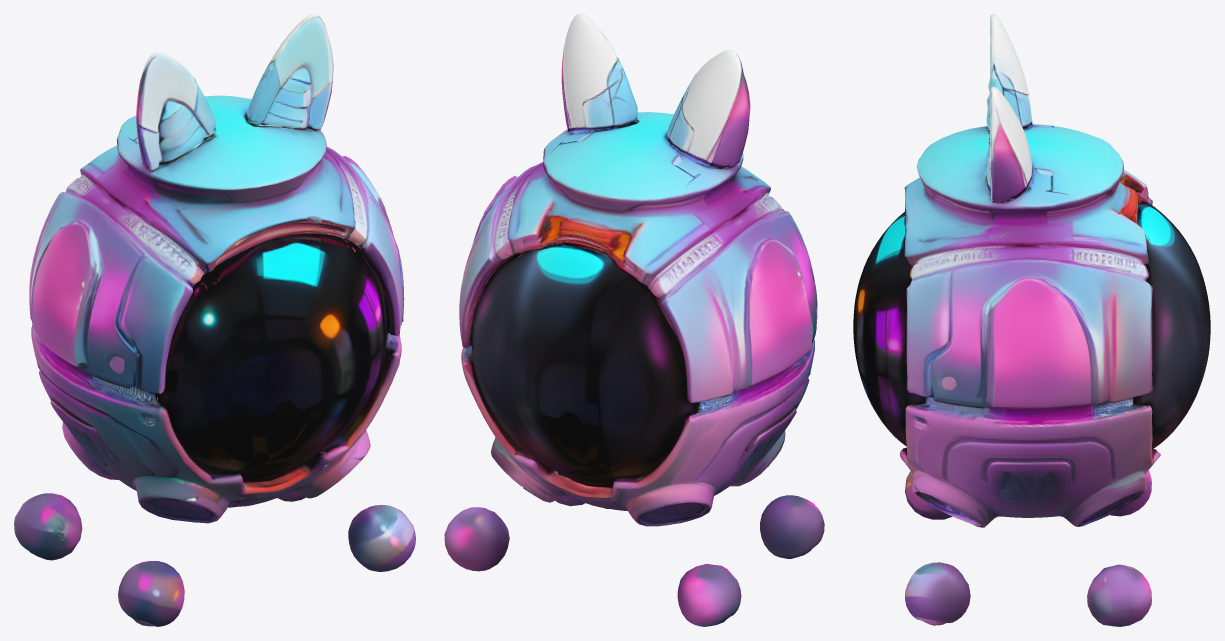
Rendered from 06BrightModel.glb.
3 renders of one model, left to right at view 1: azimuth 30°, elevation 25°; view 2: azimuth 150°, elevation 25°; view 3: azimuth 270°, elevation 25°, orthographic. The views are drawn at different scales.
Parts seen in each view (by area): view 1: root.0, root.2, root.3, root.4, root.9, root.5, root.12; view 2: root.0, root.1, root.4, root.3, root.11, root.12, root.5; view 3: root.0, root.1, root.2, root.3, root.9, root.11, root.4, root.12.
Boxes of the visible parts, box(x1,y1,x2,y2) form: root.0: box(29, 95, 404, 523); root.2: box(156, 234, 386, 479); root.3: box(245, 14, 333, 130); root.4: box(136, 52, 215, 170); root.9: box(348, 505, 415, 571); root.5: box(14, 493, 82, 560); root.12: box(118, 561, 184, 626); root.0: box(459, 112, 817, 526); root.1: box(471, 243, 697, 485); root.4: box(665, 50, 750, 169); root.3: box(561, 14, 637, 133); root.11: box(444, 507, 509, 571); root.12: box(760, 495, 824, 558); root.5: box(677, 564, 741, 626); root.0: box(899, 124, 1160, 527); root.1: box(1133, 202, 1210, 449); root.2: box(853, 212, 925, 446); root.3: box(986, 86, 1032, 202); root.9: box(905, 562, 970, 625); root.11: box(1087, 564, 1151, 626); root.4: box(986, 14, 1032, 130); root.12: box(905, 470, 951, 519).
Bounding box in the file's own units: 1.11 × 1.76 × 1.1.
Materials: 9 (9 with a texture image).
